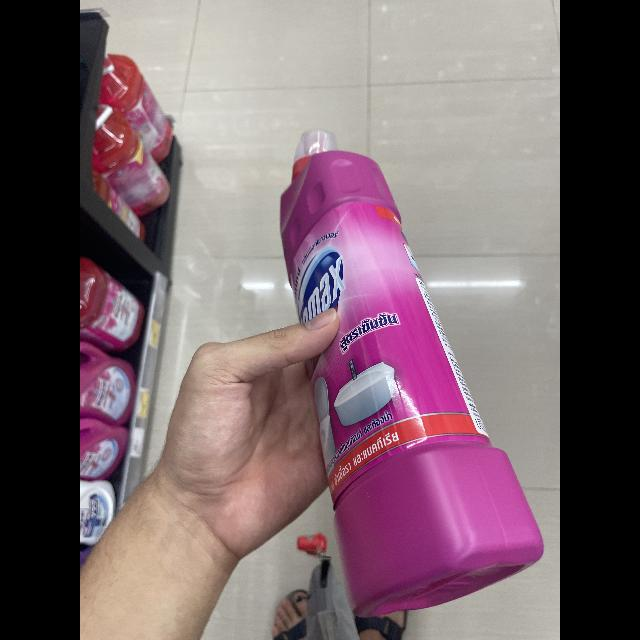chemical_plastic_bottle: (270, 126, 548, 620)
